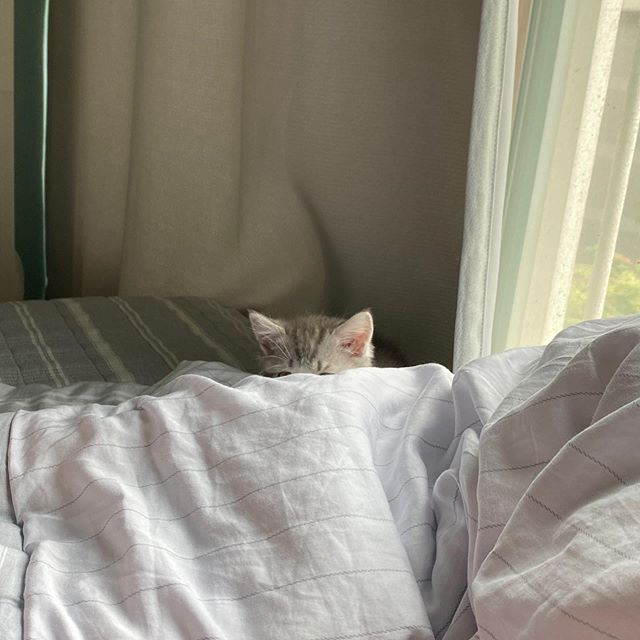cat: (242, 306, 376, 374)
